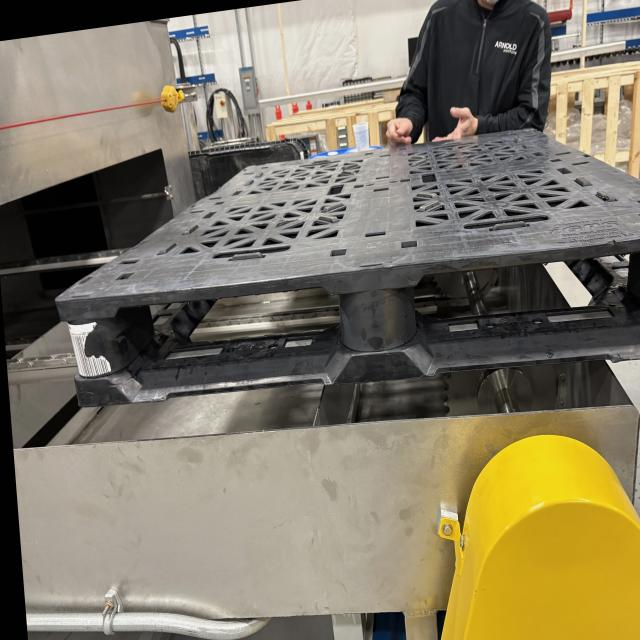igps: (47, 114, 640, 418)
